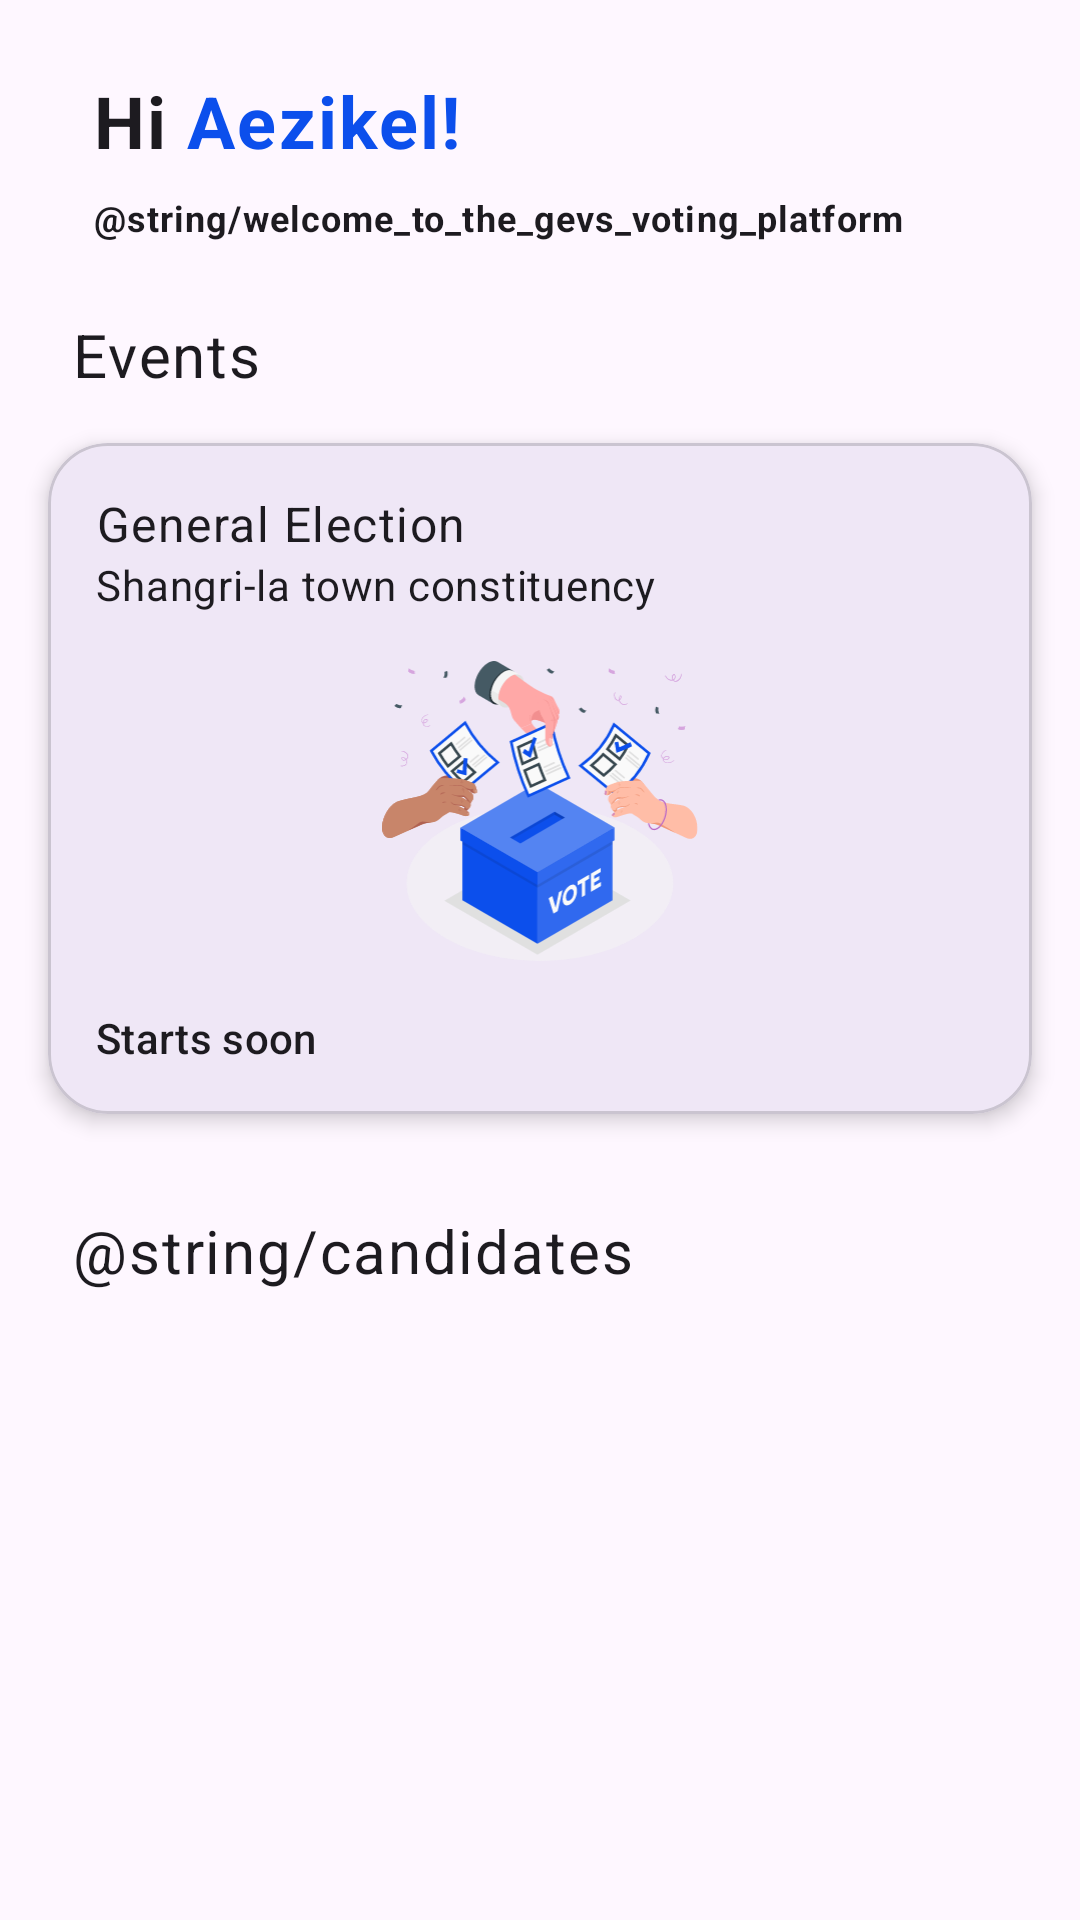

Where icons sit on this 1080×1920 app screen, as bbox(x1, y1, x2, y2):
illustration event: bbox(382, 661, 697, 944)
